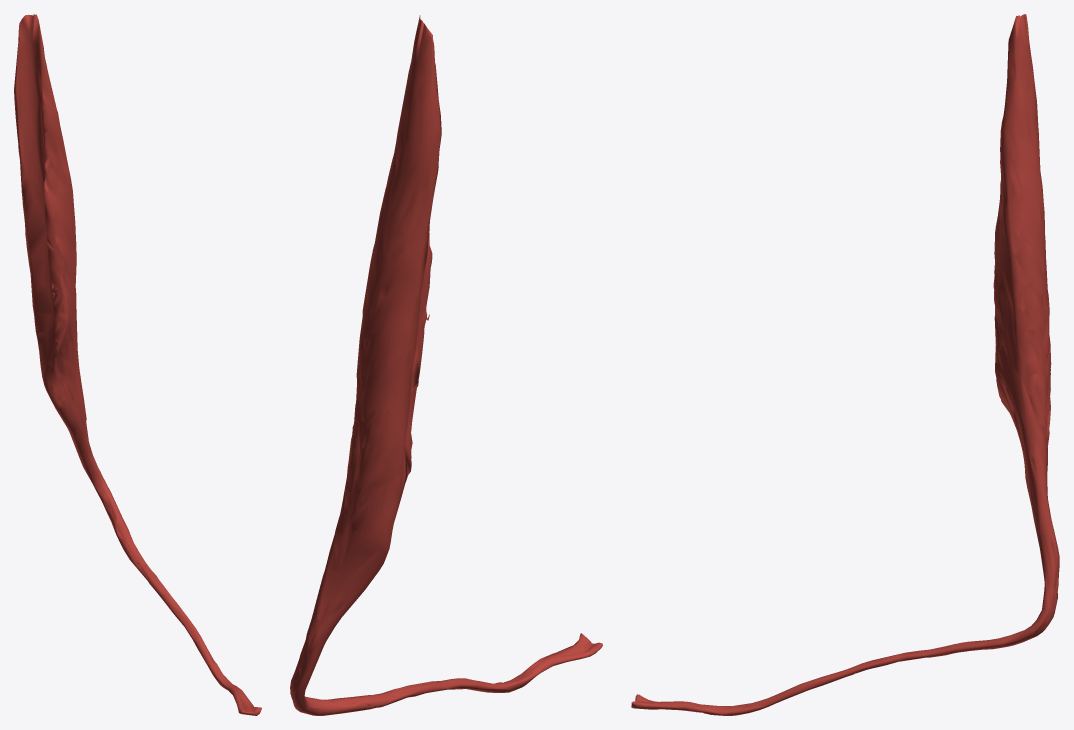
File: musculos-flexor-hallucis-longus-r.glb
The picture shows the model from 3 angles, left to right: view 1: azimuth 30°, elevation 25°; view 2: azimuth 150°, elevation 25°; view 3: azimuth 270°, elevation 25°; orthographic projection. The views are drawn at different scales.
Visible parts, largest first — view 1: Flexor hallucis longus.r; view 2: Flexor hallucis longus.r; view 3: Flexor hallucis longus.r.
Boxes of the visible parts, x1,y1,x2,y2 form: Flexor hallucis longus.r: [14, 14, 261, 715]; Flexor hallucis longus.r: [290, 15, 602, 715]; Flexor hallucis longus.r: [631, 14, 1059, 715].
Bounding box in the file's own units: 0.0566 × 0.3177 × 0.1847.
